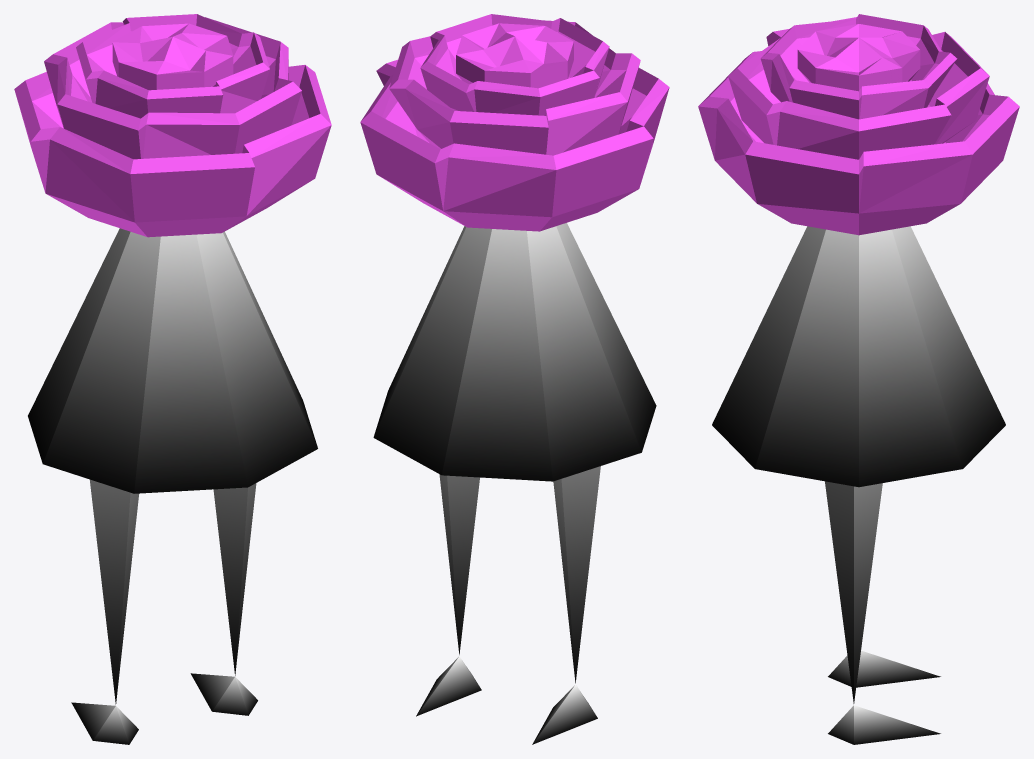
Rendered from PlayerIdle.fbx.
3 renders of one model, left to right at view 1: azimuth 30°, elevation 25°; view 2: azimuth 150°, elevation 25°; view 3: azimuth 270°, elevation 25°, orthographic. The views are drawn at different scales.
Visible parts, largest first — view 1: Cone.002; view 2: Cone.002; view 3: Cone.002.
Part boxes in pixels (x1=…): Cone.002: x1=14, y1=14, x2=331, y2=744; Cone.002: x1=360, y1=14, x2=669, y2=744; Cone.002: x1=698, y1=14, x2=1019, y2=744.
Size of the model in its own units: 43.68 by 100 by 43.68.
